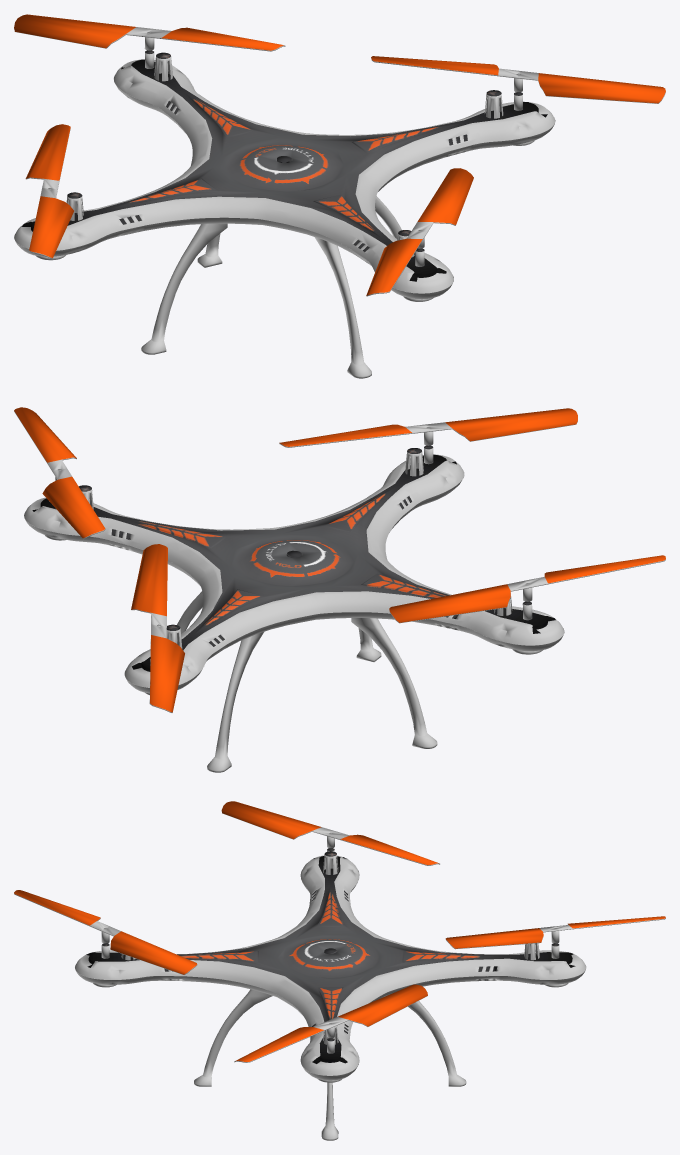
Rendered from drone.obj.
3 views of the same model, one above another, from view 1: azimuth 30°, elevation 25°; view 2: azimuth 150°, elevation 25°; view 3: azimuth 270°, elevation 25° (orthographic). The views are drawn at different scales.
Visible parts, largest first — view 1: Box007; view 2: Box007; view 3: Box007.
Part boxes in pixels (box(x1,y1,x2,y2)): Box007: box(14, 14, 665, 378); Box007: box(14, 407, 665, 772); Box007: box(14, 801, 665, 1140).
Size of the model in its own units: 31.37 by 9.51 by 33.13.
